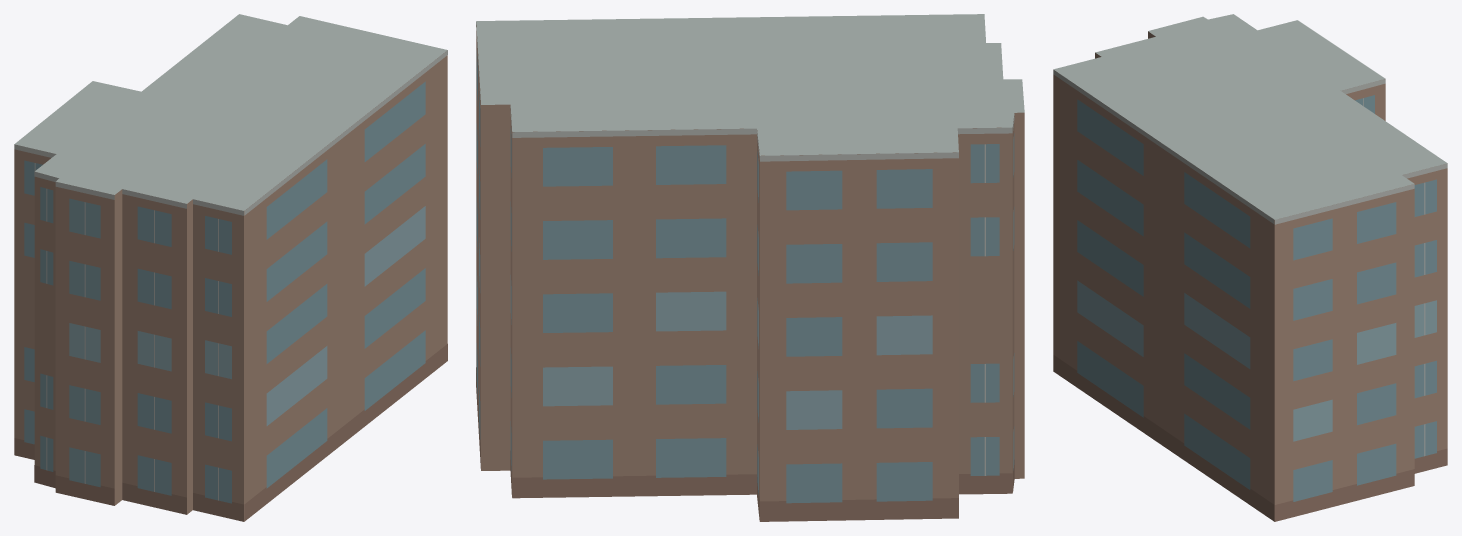
Rendered from survey-upis-32755573.glb.
3 views of the same model, side by side, from view 1: azimuth 30°, elevation 25°; view 2: azimuth 150°, elevation 25°; view 3: azimuth 270°, elevation 25° (orthographic). The views are drawn at different scales.
Parts seen in each view (by area): view 1: survey-upis-32755573.tmp; view 2: survey-upis-32755573.tmp; view 3: survey-upis-32755573.tmp.
Part boxes in pixels (<box>): survey-upis-32755573.tmp: <box>14,14,447,521</box>; survey-upis-32755573.tmp: <box>476,14,1024,521</box>; survey-upis-32755573.tmp: <box>1053,14,1447,521</box>.
Bounding box in the file's own units: 22.31 × 15.25 × 18.06.
